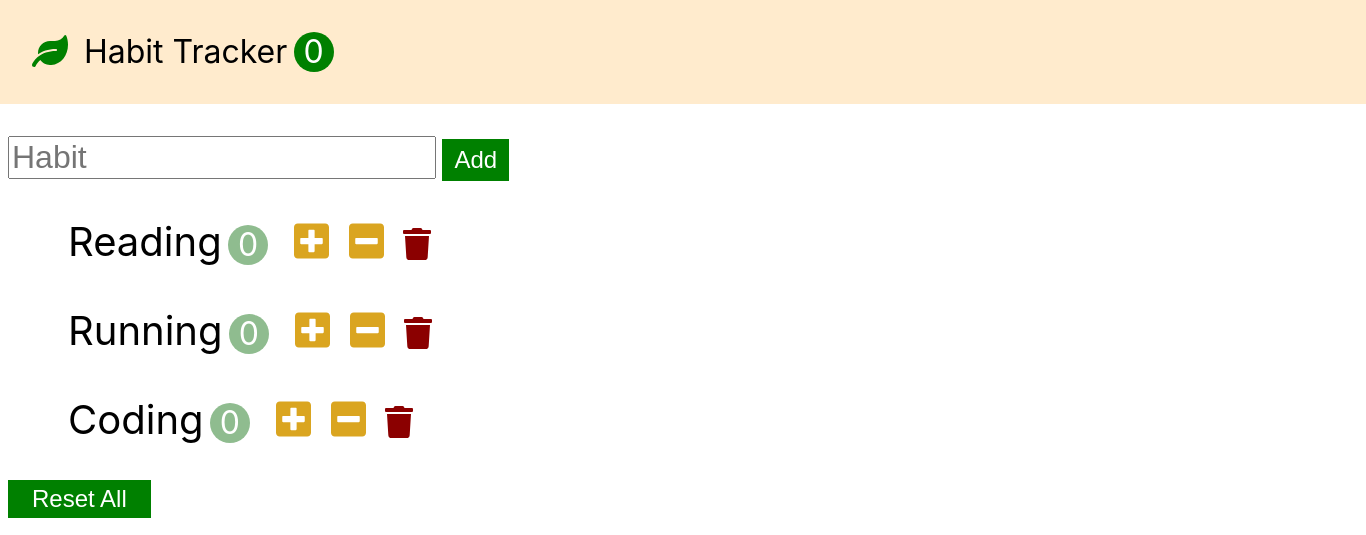
habit tracker tests › increases and decreases the counter
The width and height of the screenshot is (1366, 535).
Click the button titled "increase" in the row of "Reading": x=312, y=243 [288, 219, 335, 266]
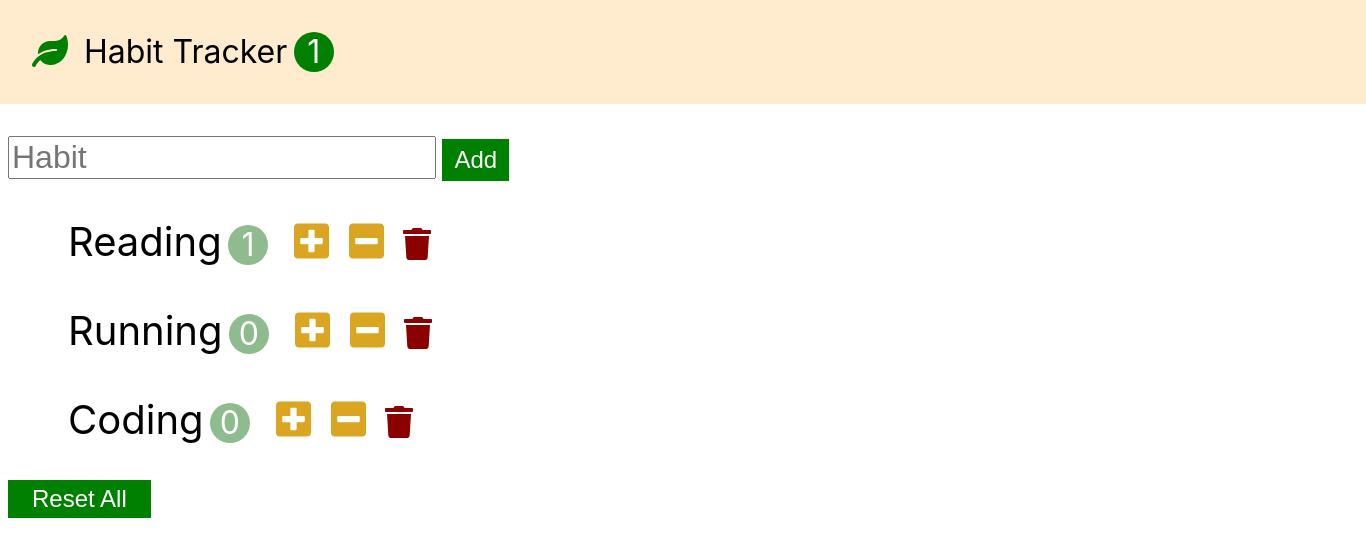
Now the text with test id "habit-count" next to "Reading" reads "1", box [228, 225, 268, 265]
Click the button titled "decrease" in the row of "Reading": x=367, y=243 [343, 219, 390, 266]
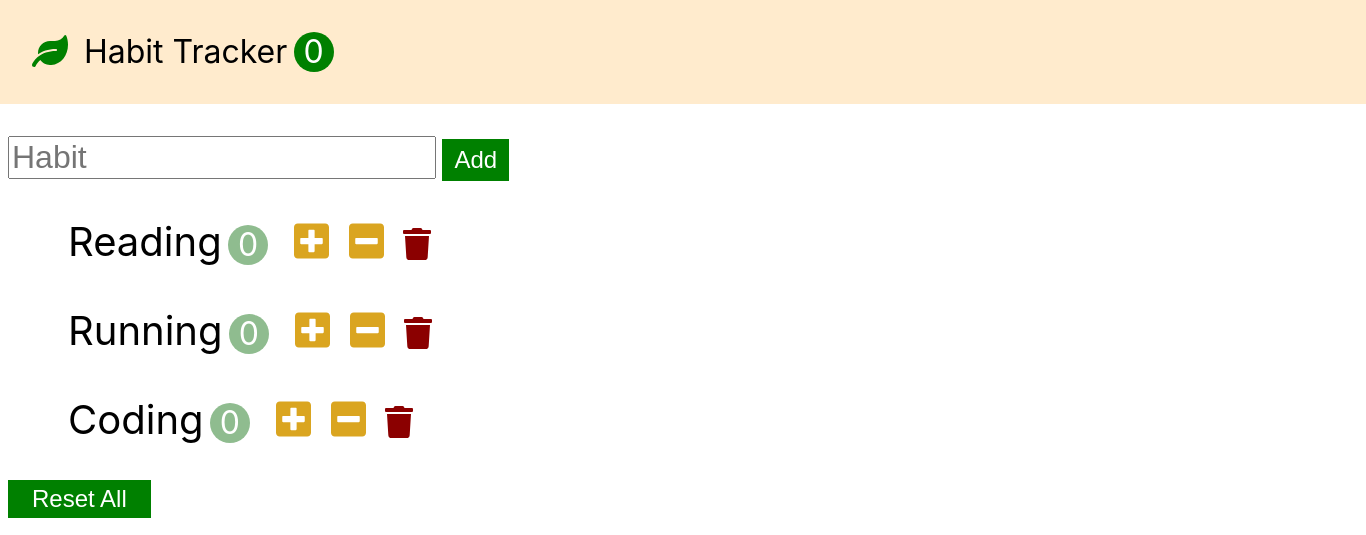
Now the text with test id "habit-count" next to "Reading" reads "0", box [228, 225, 268, 265]
